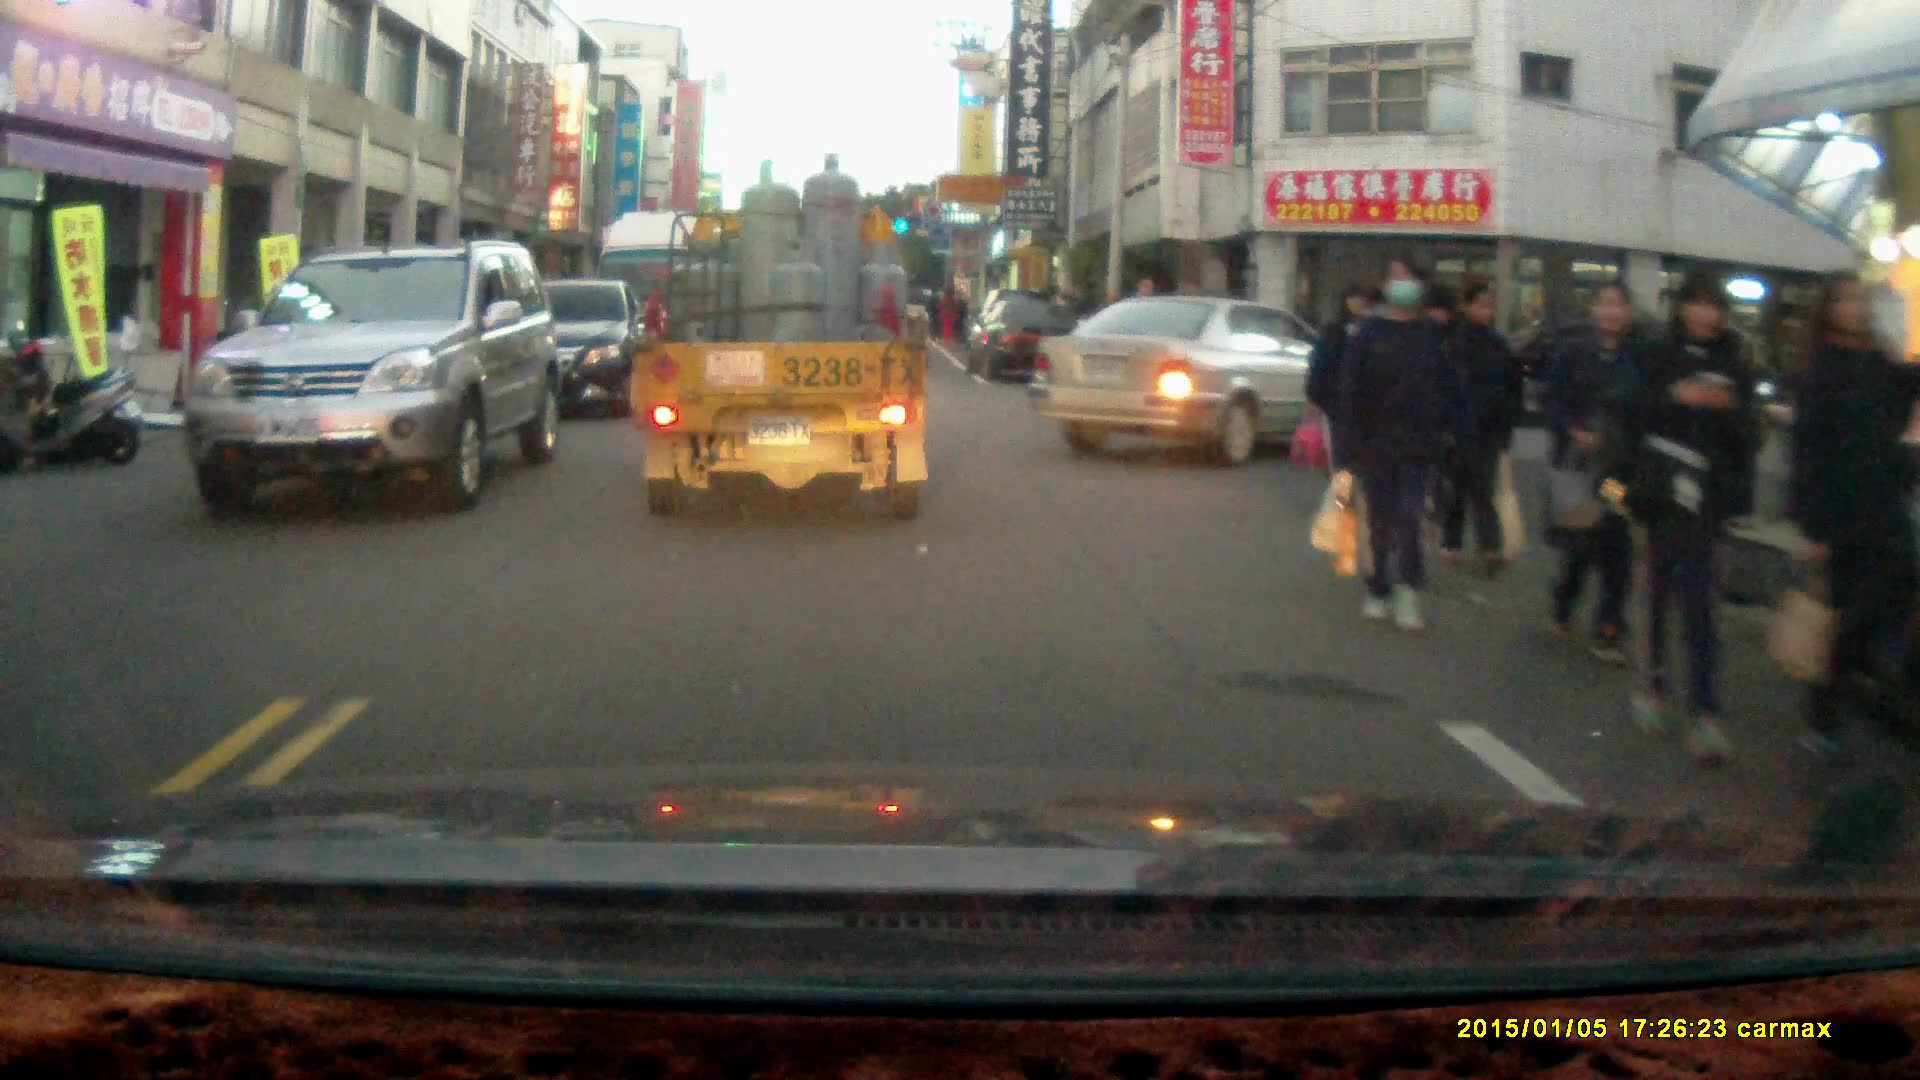pedestrian: (1616, 266, 1762, 766), (1785, 272, 1920, 752), (1339, 251, 1471, 639), (1540, 273, 1663, 666), (1425, 270, 1522, 578), (1304, 283, 1389, 534)
vehicle: (628, 151, 941, 519), (183, 238, 563, 509), (1026, 296, 1395, 465), (447, 280, 657, 424), (595, 208, 748, 394), (976, 292, 1091, 387)
